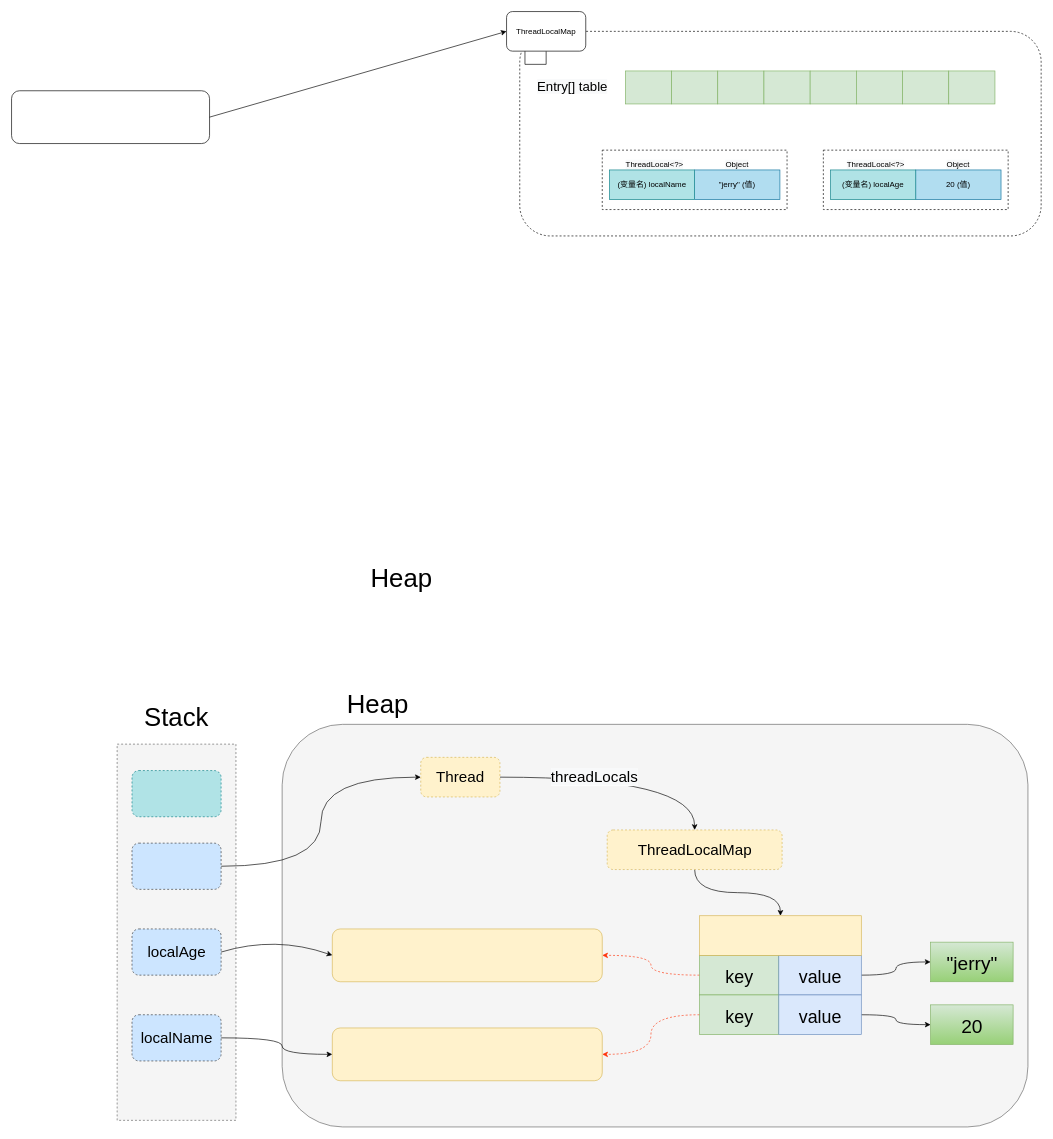
Image size: 1053x1139. Some labels were removed from this diagram. Here are the shapes that lost their labels. From the top down, the centre of each, then its label:
(110,117): Thead-01 threadLocals
(176,793): t2
(176,865): t1
(467,955): ThreadLocal<String>()
(780,935): Entry[]
(467,1054): ThreadLocal<Integer>()
